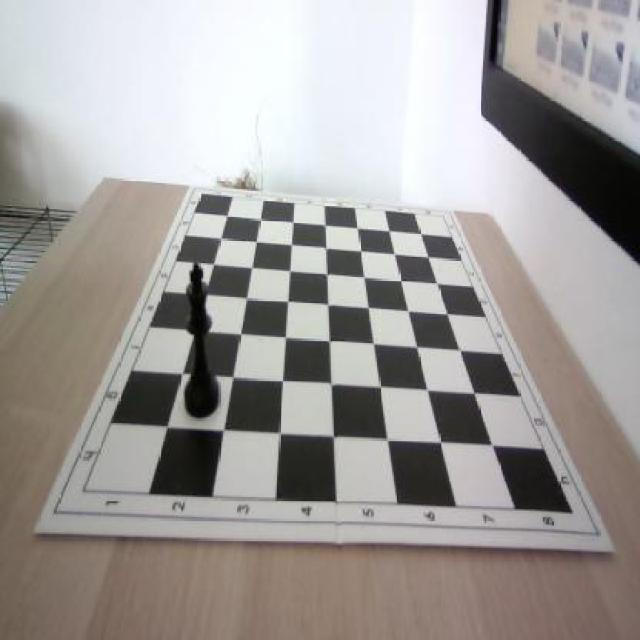black-bishop: (183, 258, 222, 420)
